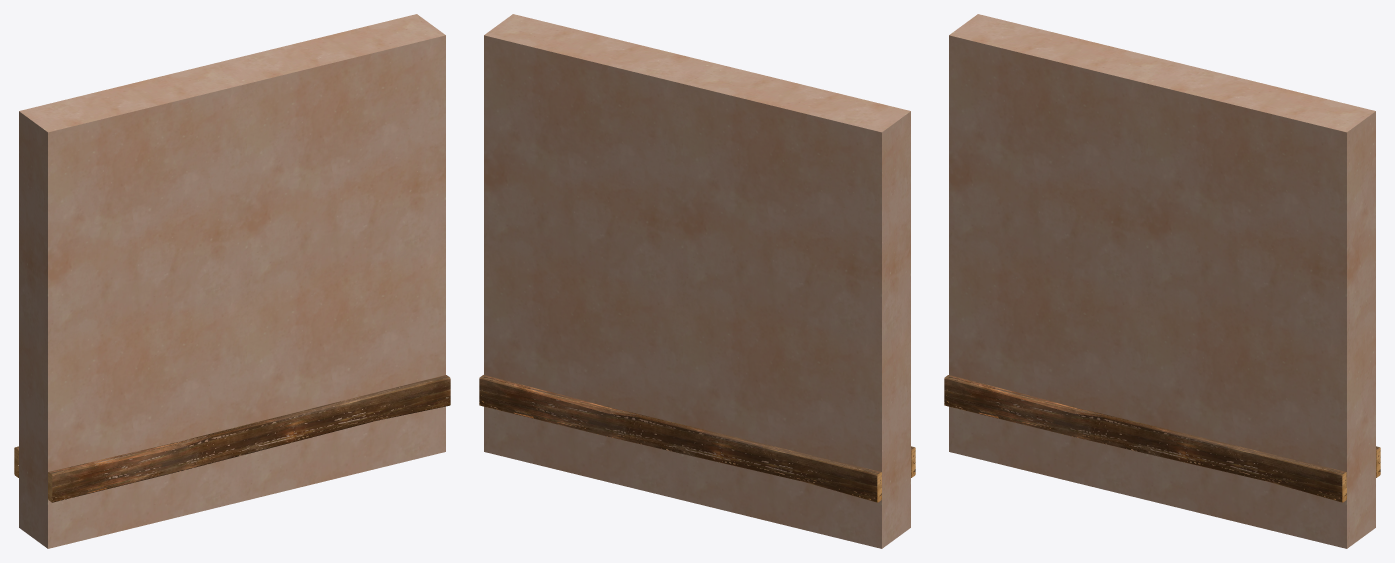
3 views of the same model, side by side, from view 1: azimuth 30°, elevation 25°; view 2: azimuth 150°, elevation 25°; view 3: azimuth 330°, elevation 25° (orthographic).
Visible parts, largest first — view 1: SM_BB_T4_Wall_Large_04_LOD0; view 2: SM_BB_T4_Wall_Large_04_LOD0; view 3: SM_BB_T4_Wall_Large_04_LOD0.
Part boxes in pixels (x1=…): SM_BB_T4_Wall_Large_04_LOD0: x1=14, y1=14, x2=450, y2=548; SM_BB_T4_Wall_Large_04_LOD0: x1=479, y1=14, x2=915, y2=548; SM_BB_T4_Wall_Large_04_LOD0: x1=944, y1=14, x2=1380, y2=548.
Bounding box in the file's own units: 3 × 3 × 0.4973.
2 materials, 2 textured.
